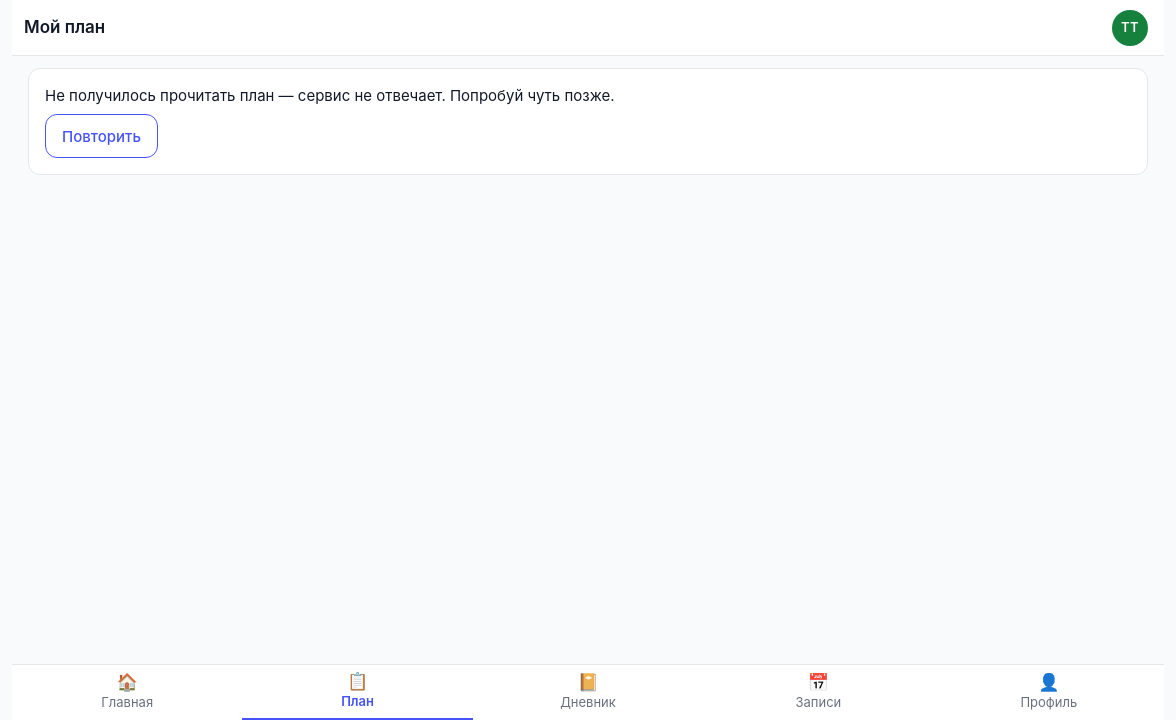
отказы и флаг › ayla_unavailable → фраза и «Повторить», который повторяет запрос
Expected: the text "Не получилось прочитать план — сервис не отвечает. Попробуй чуть позже." is shown, [45, 85, 614, 106]
Click the button "Повторить".
click(102, 136)  # box [45, 114, 158, 158]
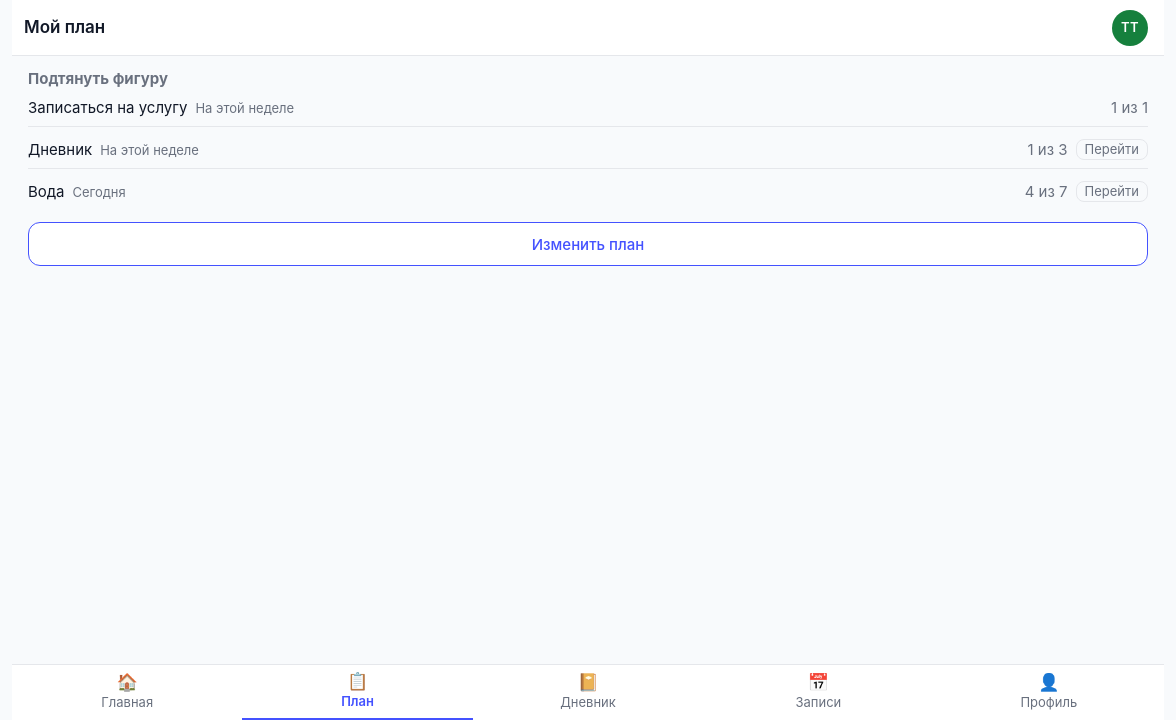
Expected: the element with test id "plan-lite-card" is shown, [28, 68, 1148, 266]
